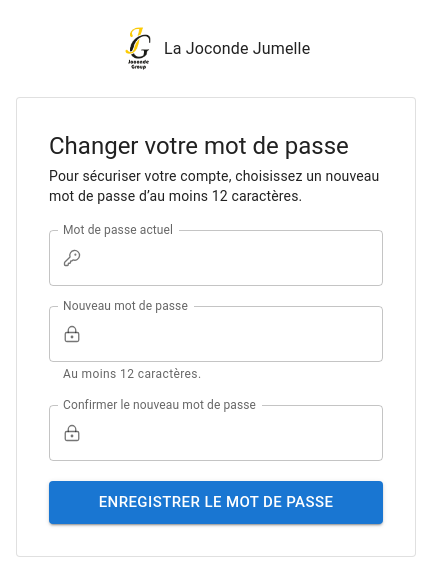
Test: ChangePasswordPage › exige 12 caractères et une confirmation identique
Type "provisoire" into the password field labelled "Mot de passe actuel".
click(236, 258); type("provisoire")  # box [89,230,383,286]
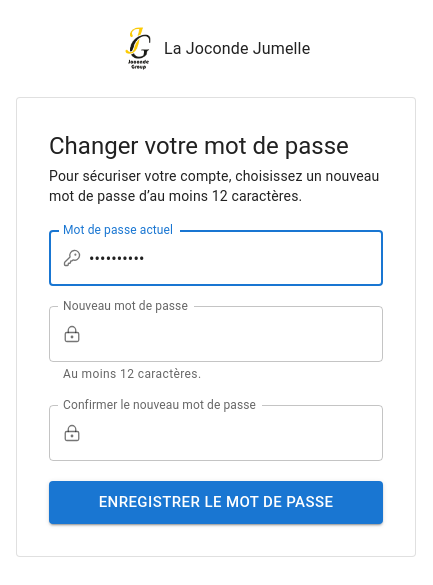
Type "court" into the password field labelled "Nouveau mot de passe".
click(236, 334); type("court")  # box [89,306,383,362]
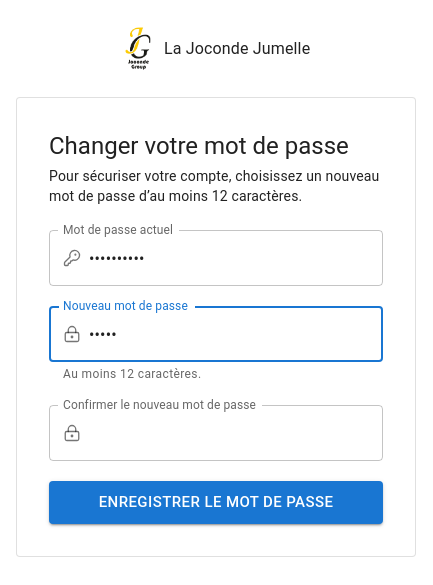
Type "autre" into the password field labelled "Confirmer le nouveau mot de passe".
click(236, 433); type("autre")  # box [89,405,383,461]
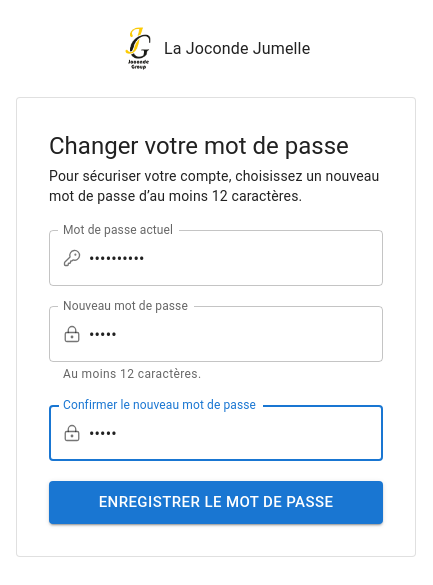
Click the button "Enregistrer le mot de passe".
click(216, 502)  # box [49,481,383,524]
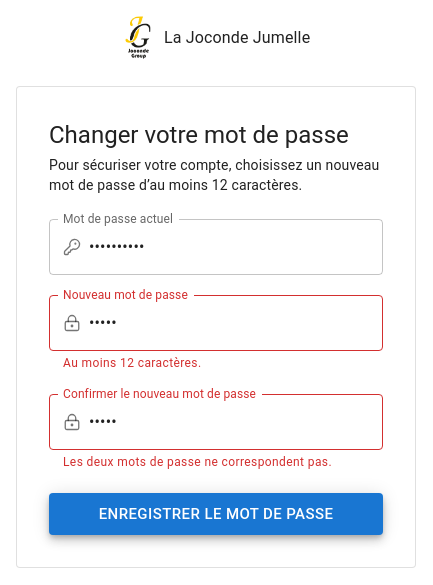
Expected: the text "Au moins 12 caractères." is shown, [63,356,202,370]
Expected: the text "Les deux mots de passe ne correspondent pas." is shown, [63,453,369,473]
